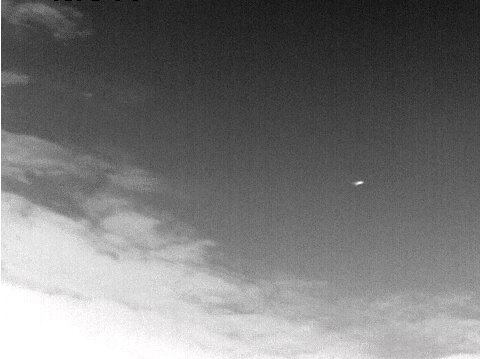dim target: (353, 180, 364, 186)
